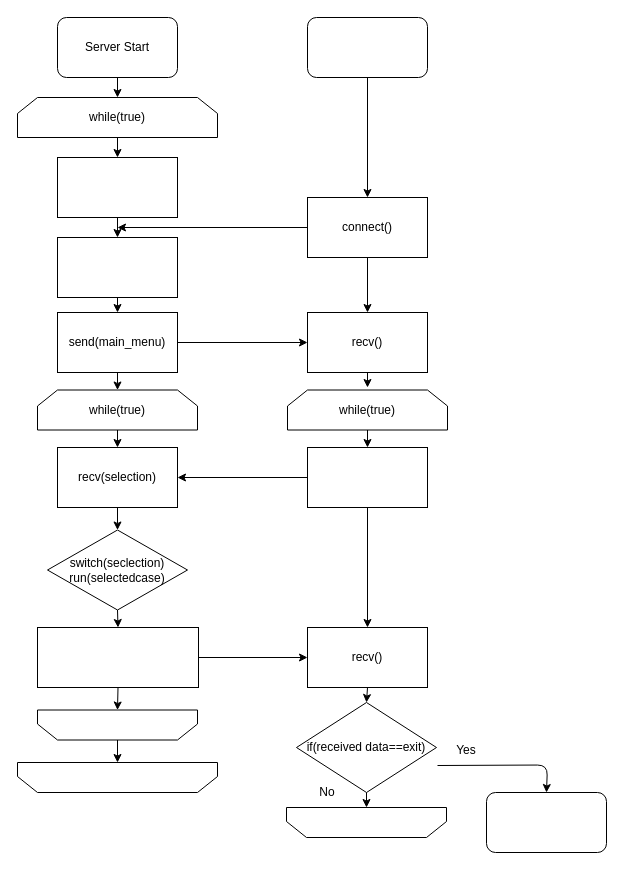
Some shapes in this 624 by 870 pixel diagram are drawn without their labels. Each missing label, with the box of its shape:
accept(): (56, 236, 178, 298)
Client Strart: (306, 16, 428, 78)
Client terminate: (486, 792, 606, 852)
listen(): (56, 156, 178, 218)
send(selected case output): (36, 626, 198, 688)
send(typed data): (306, 446, 428, 508)
